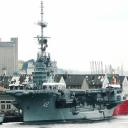Portanaves: (4, 6, 122, 126)
